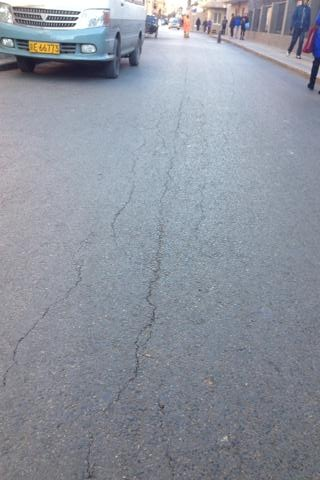A: (112, 99, 181, 437), (6, 250, 88, 391)
